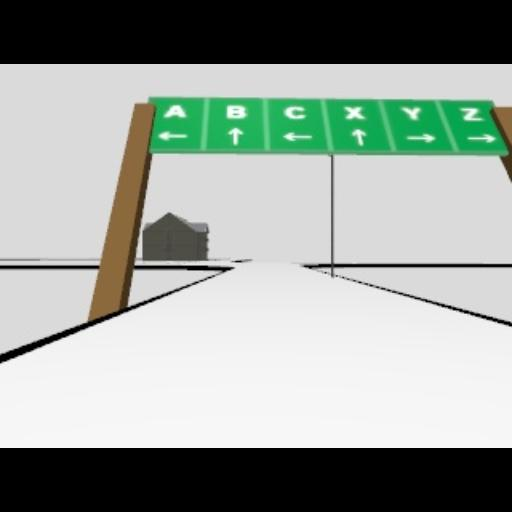A: (161, 102, 187, 118)
B: (224, 102, 248, 118)
C: (283, 104, 305, 118)
Left: (156, 130, 186, 140), (282, 131, 312, 141)
Right: (407, 133, 437, 143), (468, 133, 494, 143)
Straight: (350, 128, 366, 146), (227, 126, 243, 144)
X: (344, 104, 364, 118)
Y: (400, 106, 420, 120)
Z: (459, 107, 481, 121)
